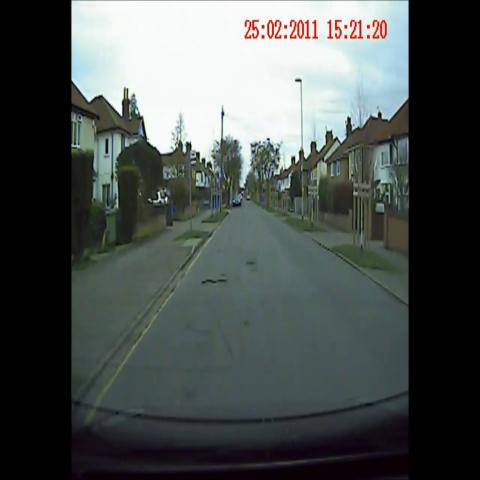pothole: (195, 270, 232, 298), (240, 249, 256, 271)
